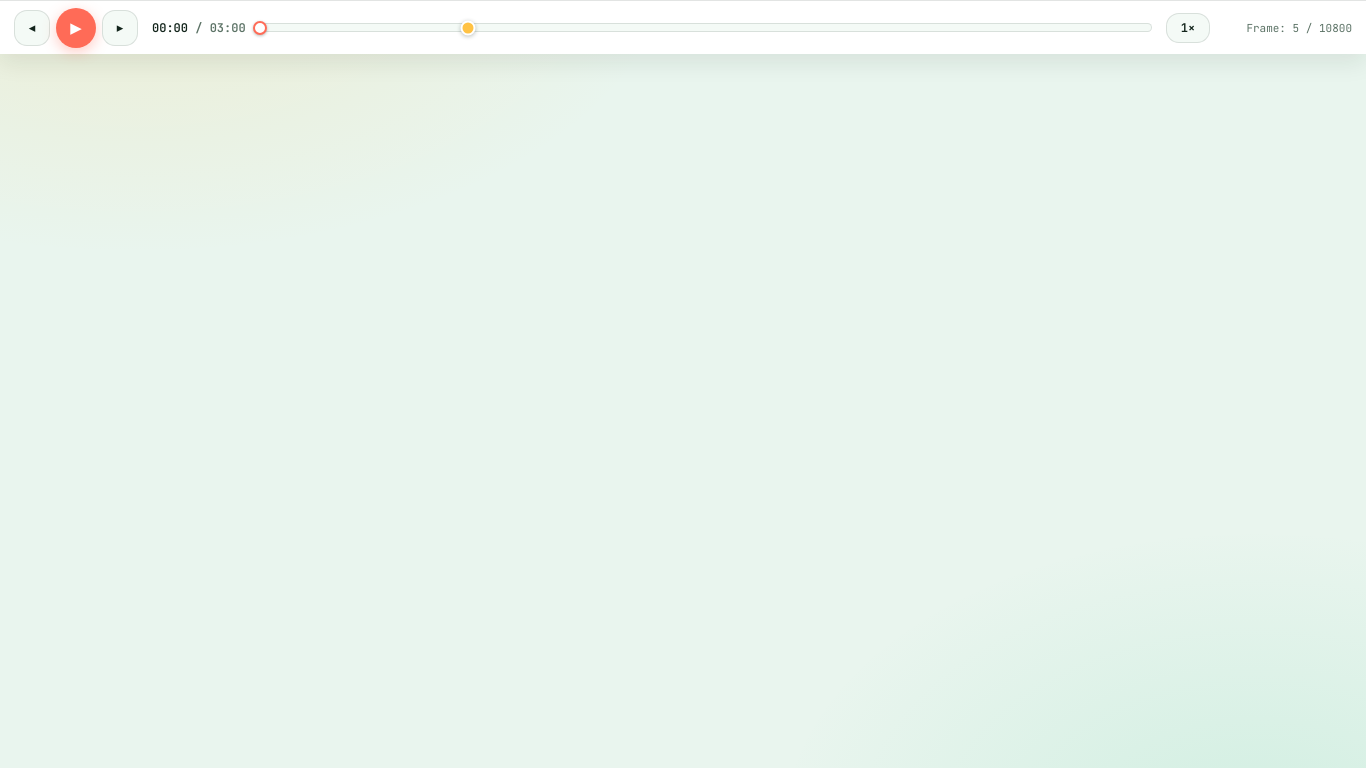
Timeline (broadcast, story 7.7) › cycles the playback speed 1x → 2x → 4x → 0.5x → 1x into the engine
This screenshot has width=1366, height=768.
Click the button with test id "speed-button".
click(1188, 28)  # box top-left (1166, 12), bottom-right (1210, 42)
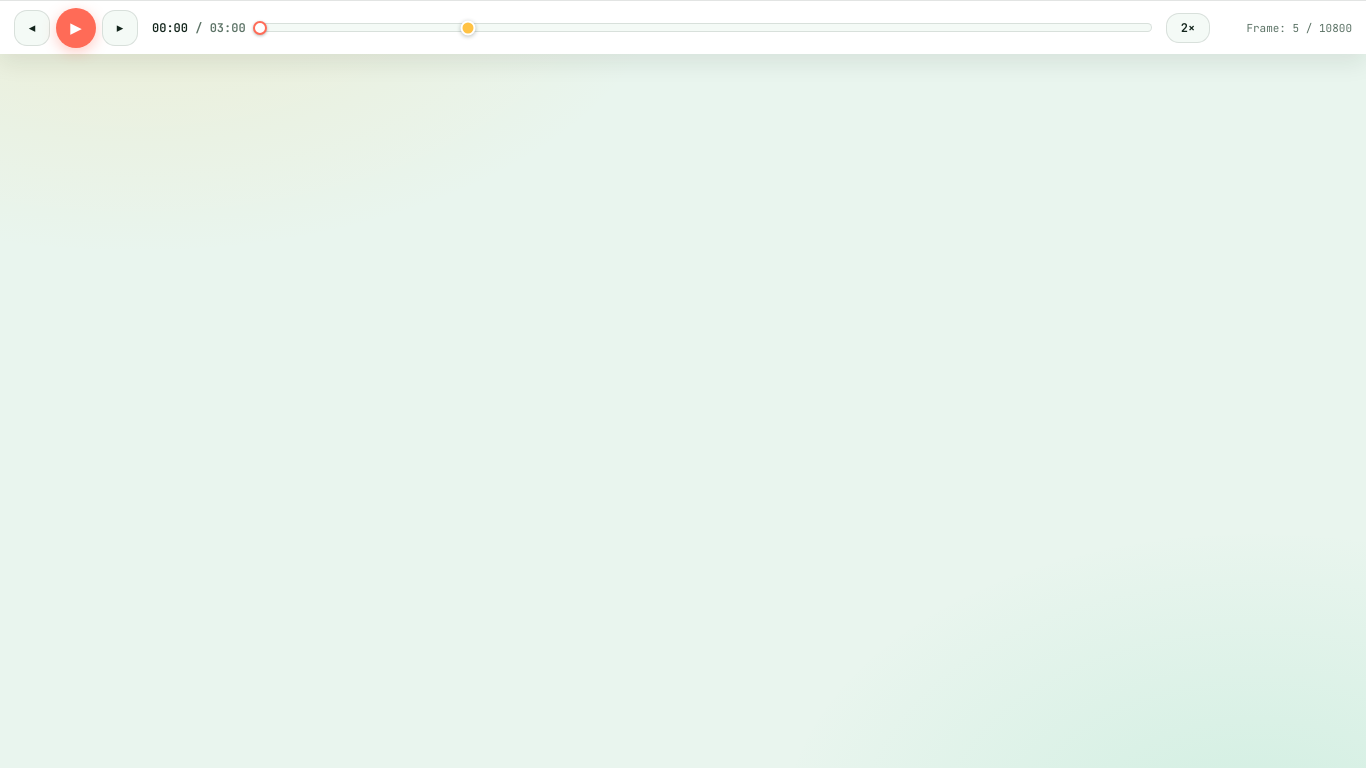
Expected: the button with test id "speed-button" reads "2×"
Click the button with test id "speed-button".
click(1188, 28)  # box top-left (1166, 12), bottom-right (1210, 42)
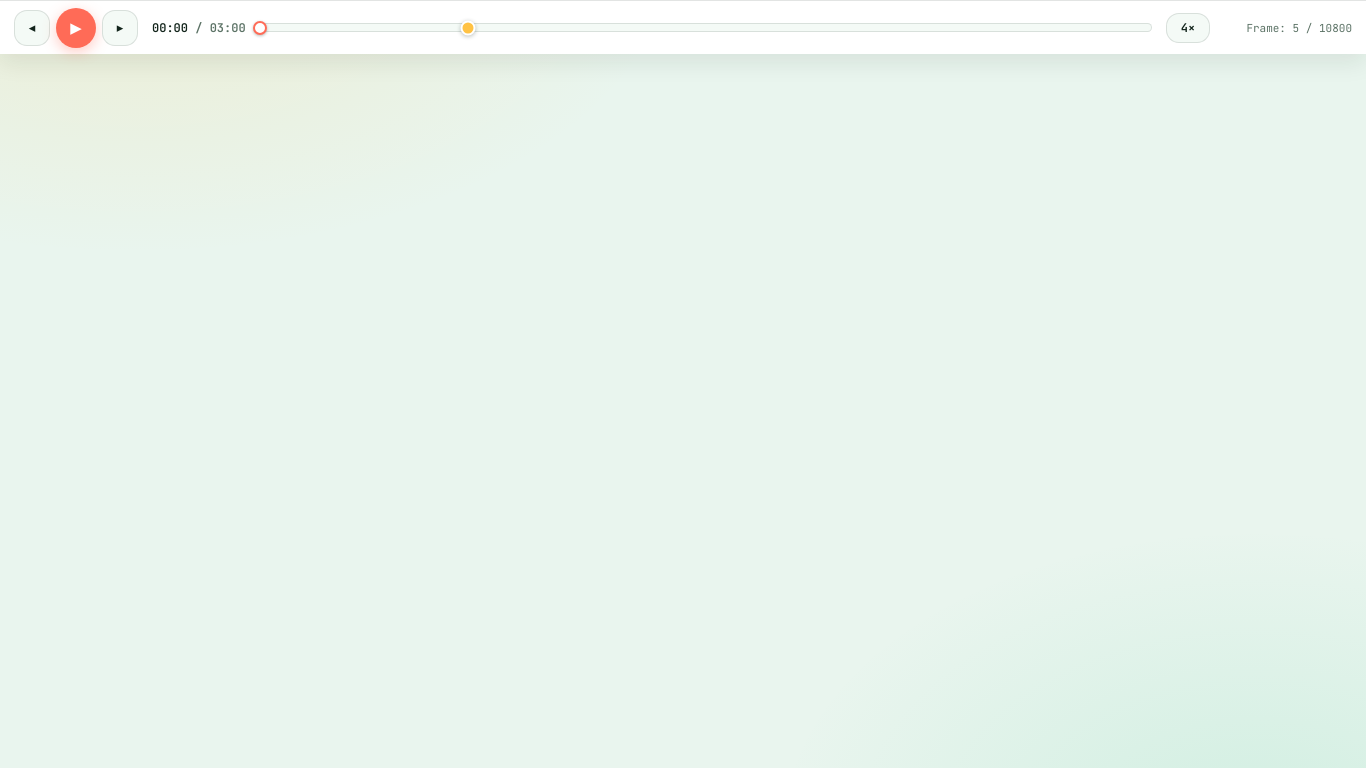
Click the button with test id "speed-button".
click(1188, 28)  # box top-left (1166, 12), bottom-right (1210, 42)
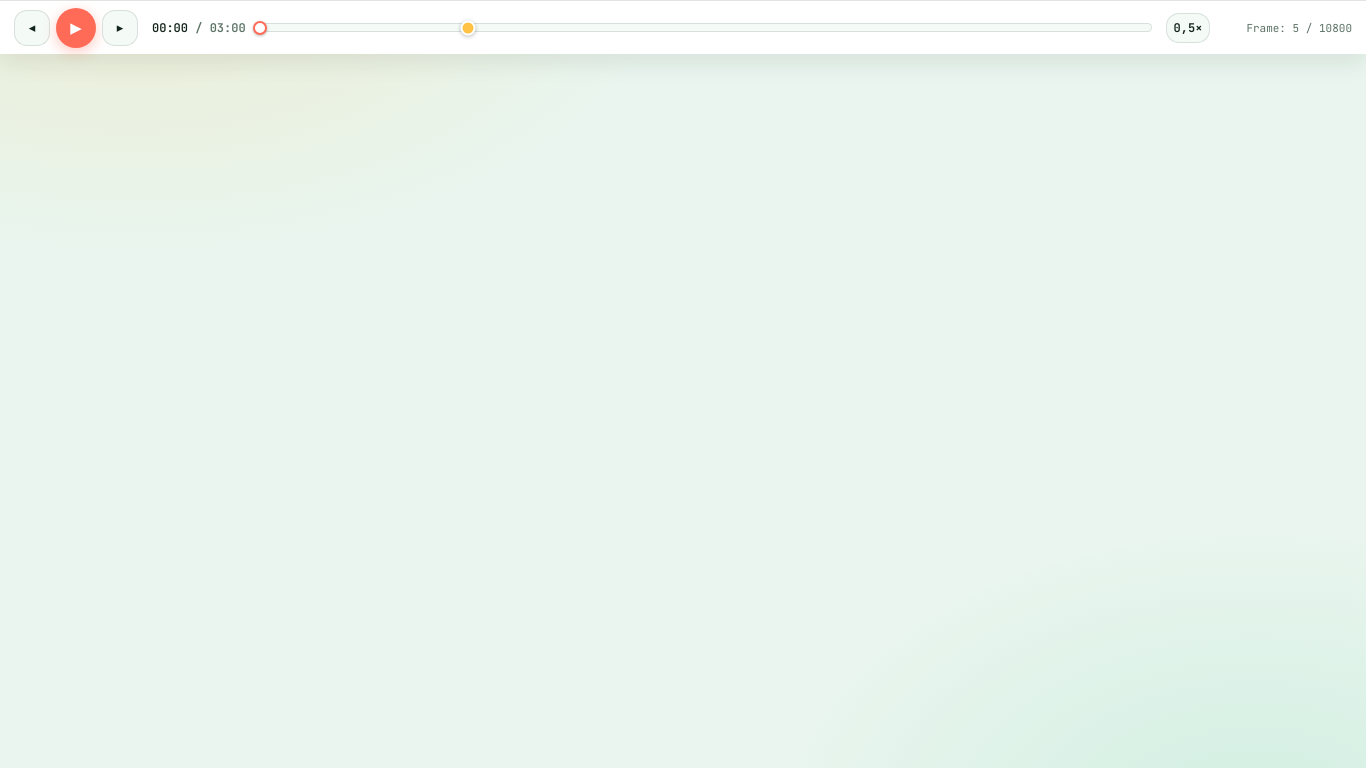
Click the button with test id "speed-button".
click(1188, 28)  # box top-left (1166, 12), bottom-right (1210, 42)
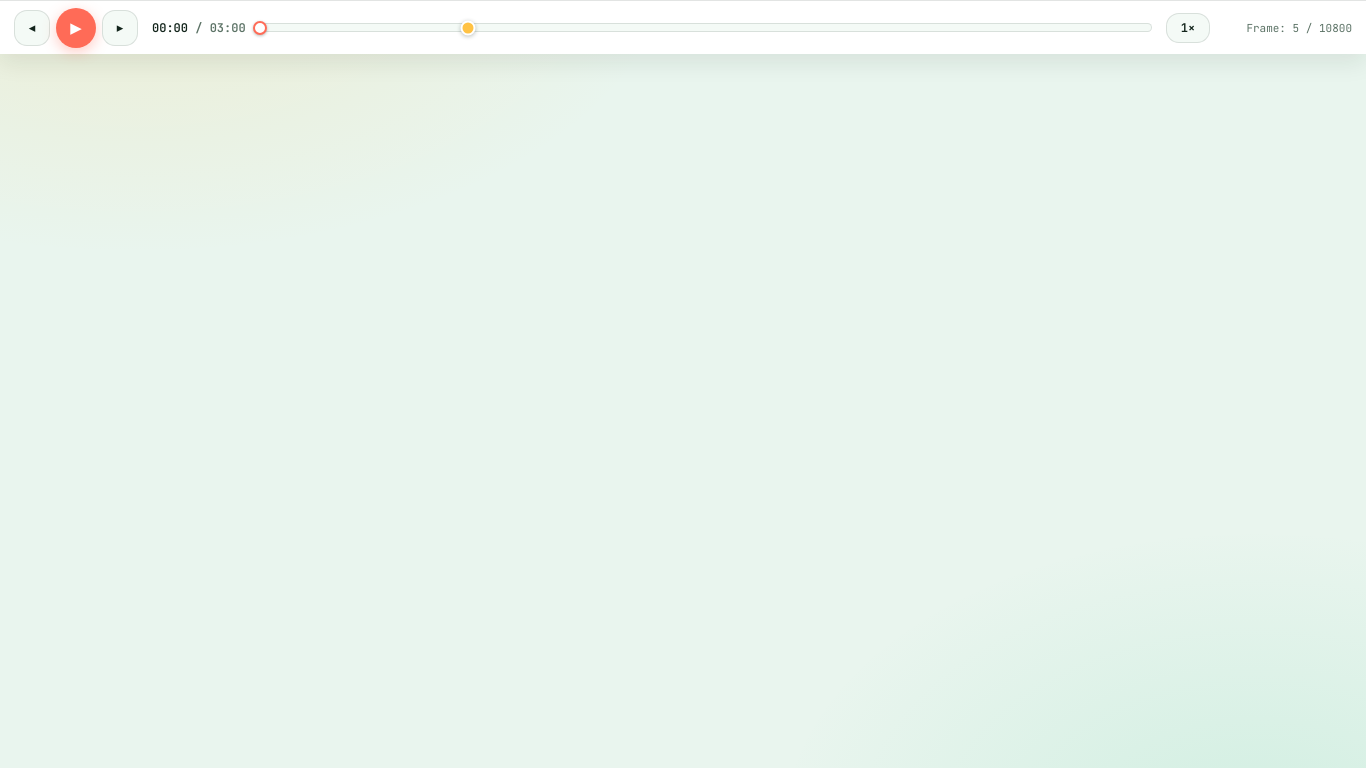
Expected: the button with test id "speed-button" reads "1×", top-left (1166, 12), bottom-right (1210, 42)
